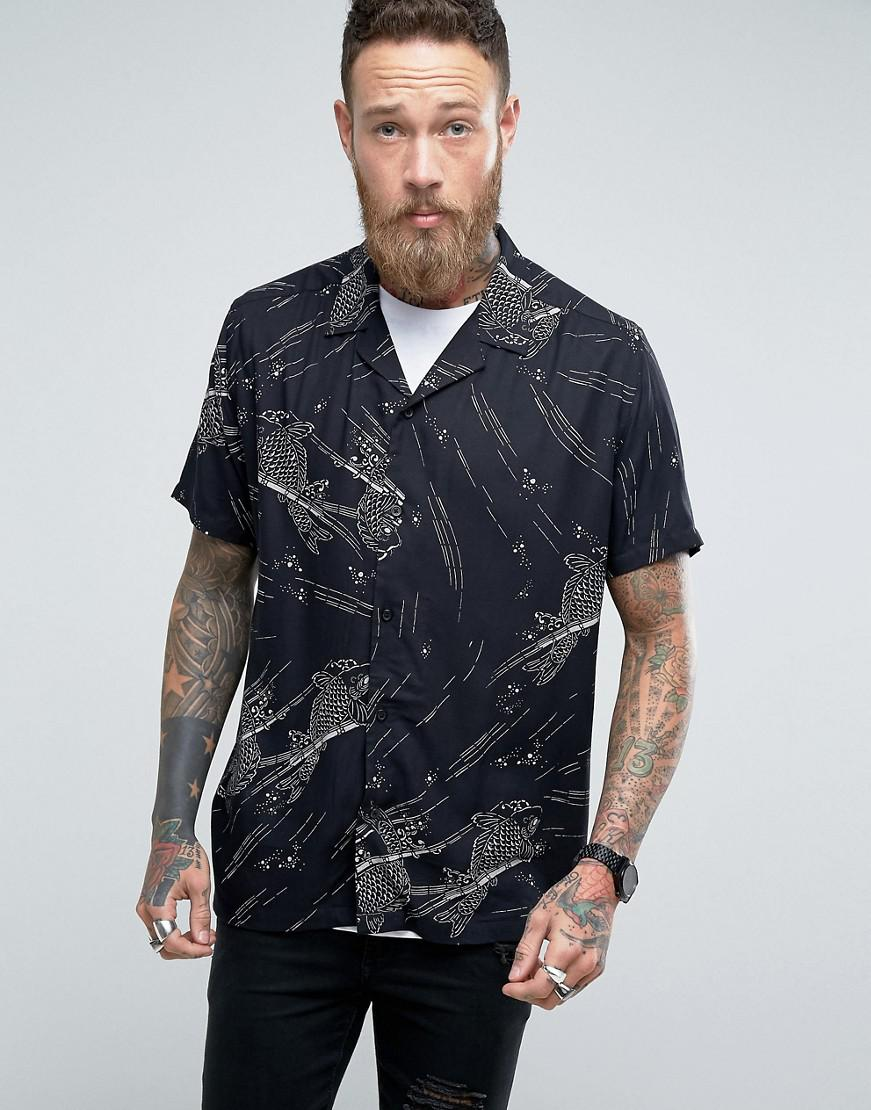teeshirt: (154, 232, 707, 968)
